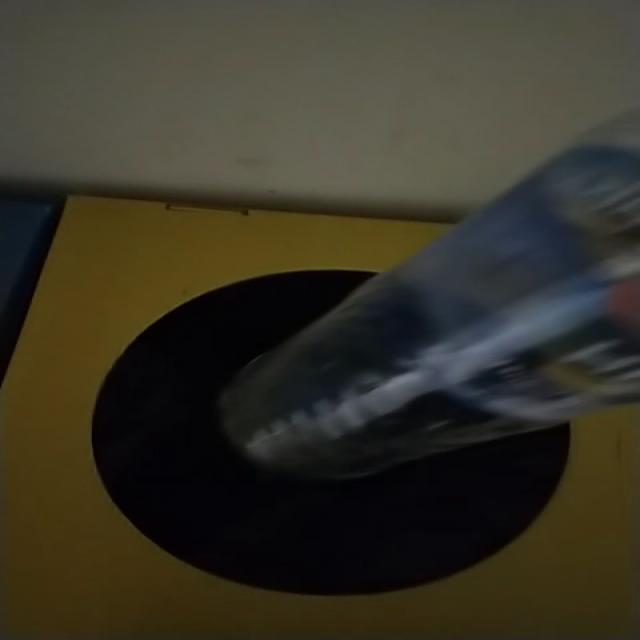Plastic: (220, 144, 640, 480)
